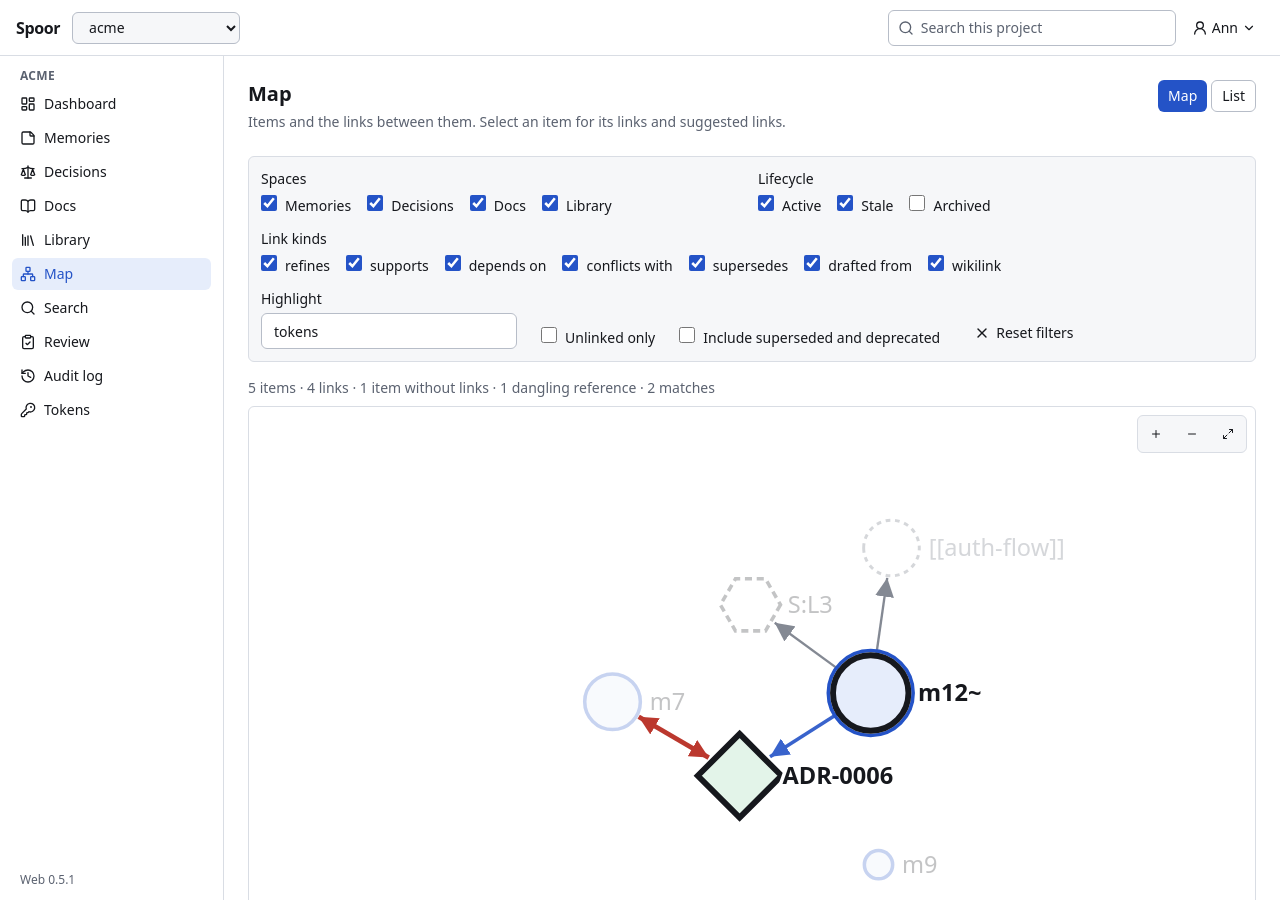
Test: GraphPage › sends unlinked only to the server, keeps the text highlight client-side and counts unlinked items
Expected: the button "m7 Shared secrets, memory, stale, 1 link" is shown, [575, 664, 685, 739]
Click the checkbox labelled "Unlinked only".
click(549, 335)  # box [541, 327, 557, 343]
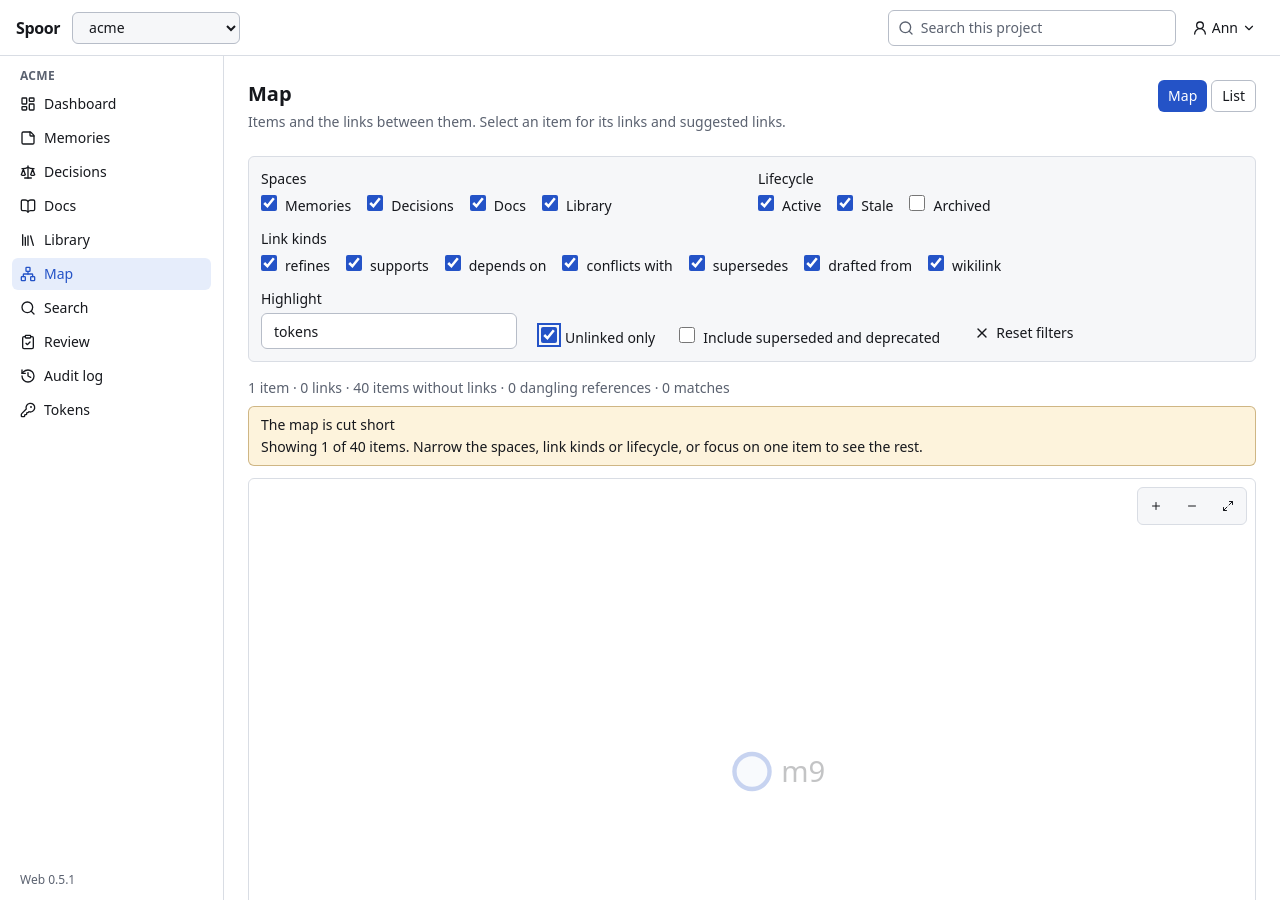
Expected: the button "m9 Lonely fact" is shown, [723, 742, 825, 801]
Expected: the text "Showing 1 of 40 items" is shown, [261, 437, 923, 456]
